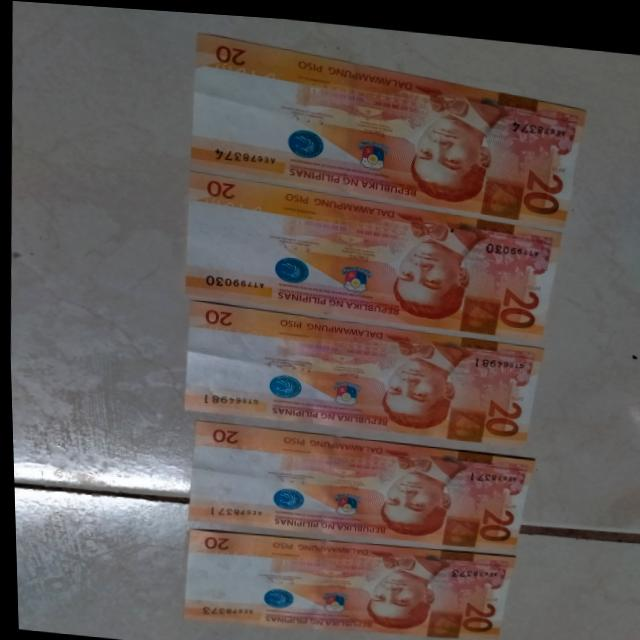concealed_value: (461, 286, 500, 326), (439, 508, 479, 542)
see_through_mark: (209, 55, 281, 83), (199, 320, 261, 337)
serial_number: (205, 140, 277, 167), (506, 108, 573, 137), (197, 269, 264, 291), (480, 233, 543, 255), (469, 347, 524, 370), (199, 387, 255, 406)
value: (491, 263, 546, 329), (477, 385, 525, 437)
value_watermark: (194, 457, 212, 477), (189, 561, 208, 579)
watermark: (200, 202, 275, 288), (194, 333, 261, 400)
